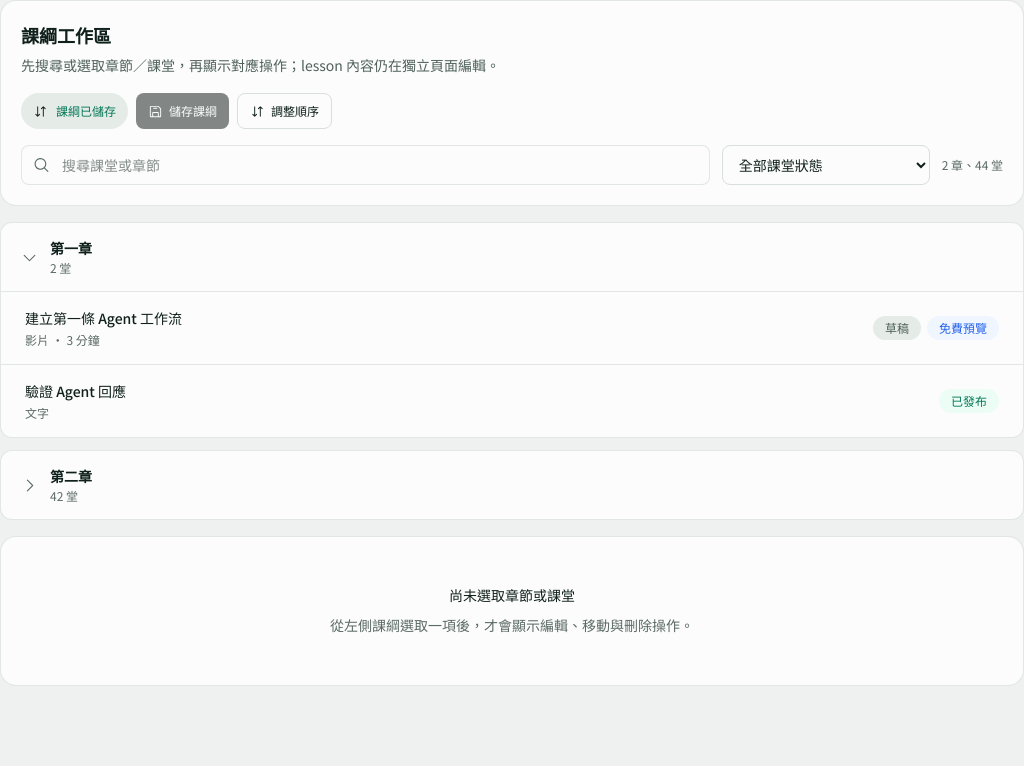
Test case: CourseOutlineEditor › preserves staged order after a save failure and allows retry
The width and height of the screenshot is (1024, 766).
Click the button "第一章 2 堂".
click(71, 248)  # box [13,235,1011,279]
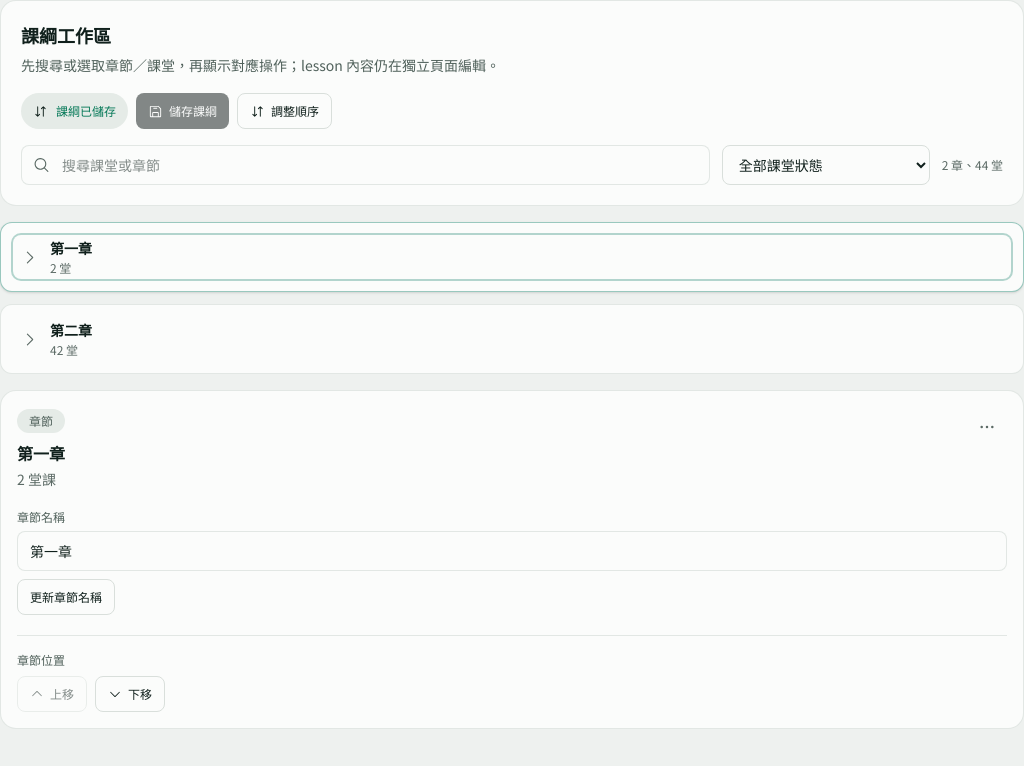
Click the button "下移".
click(130, 694)  # box [95,676,165,712]
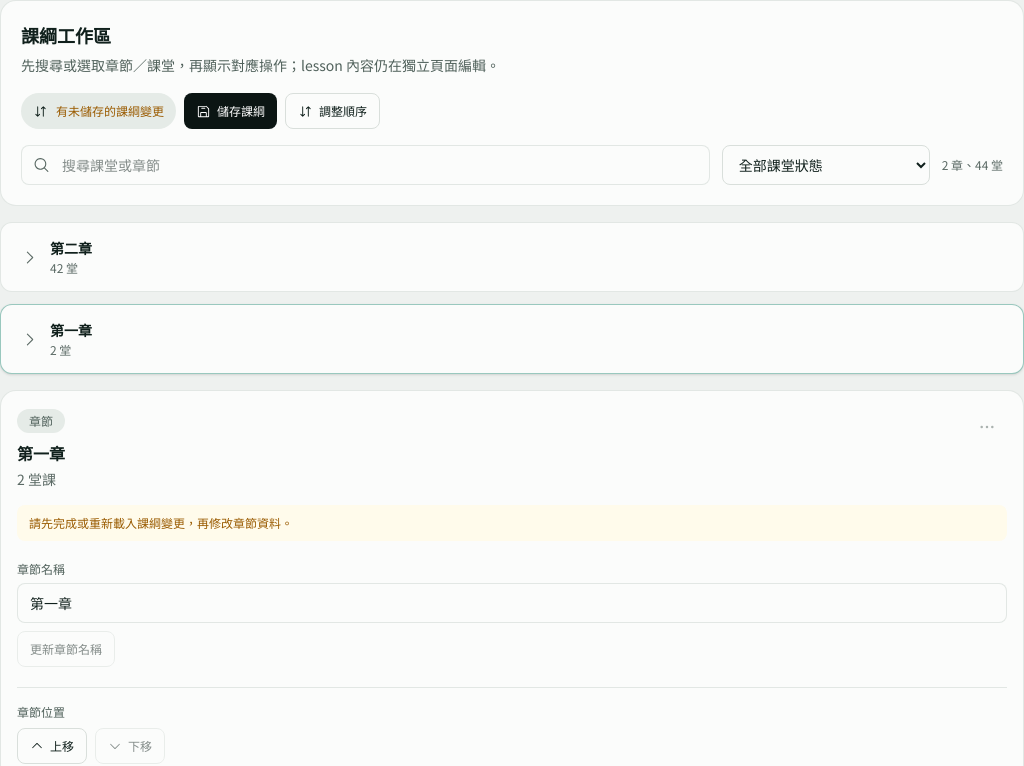
Click the button "儲存課綱".
click(230, 111)  # box [184,93,277,129]
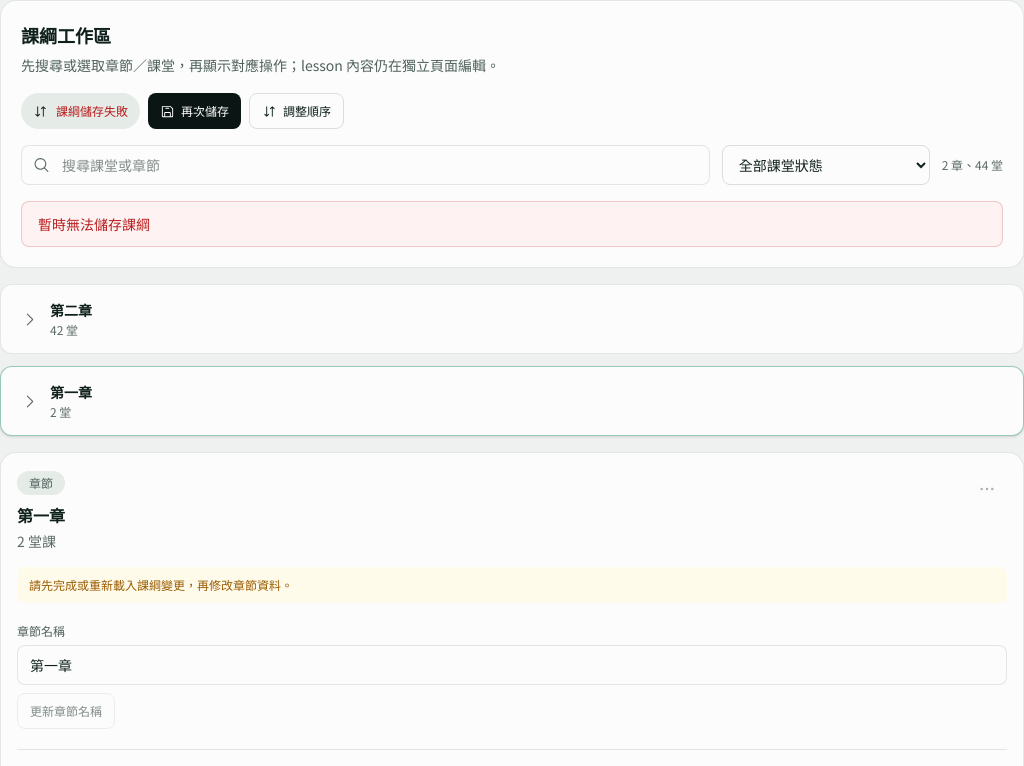
Expected: the text "課綱儲存失敗" is shown, [56,103,128,119]
Expected: the message reads "暫時無法儲存課綱", [38,214,150,234]
Click the button "再次儲存".
click(194, 111)  # box [148,93,241,129]
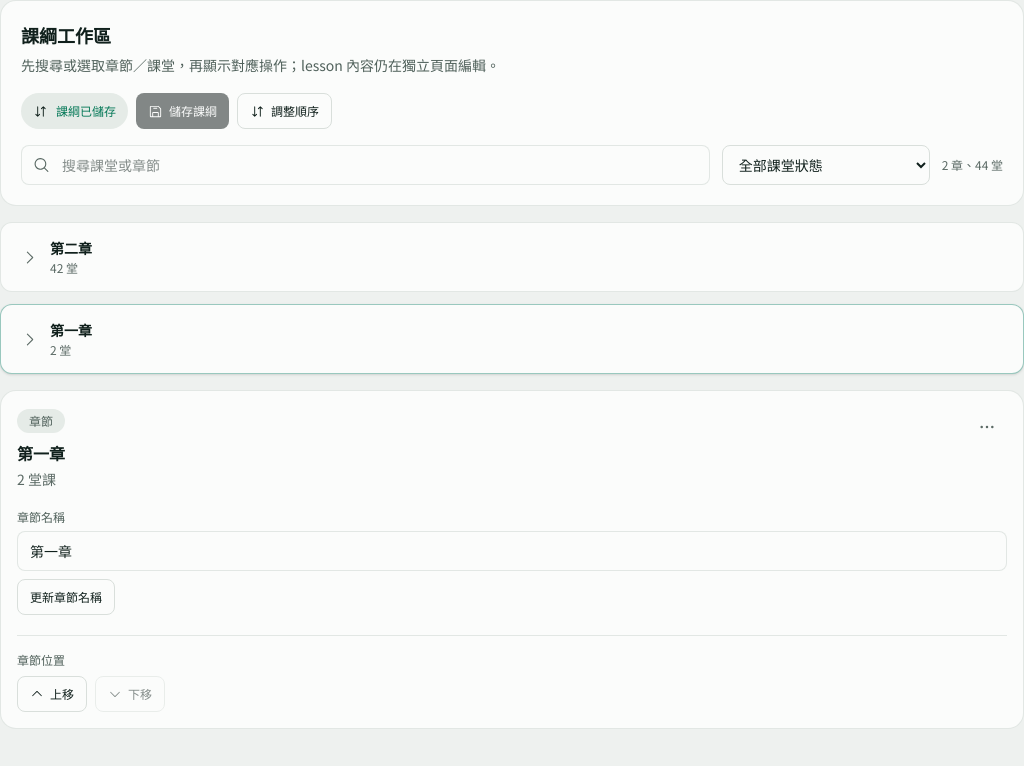
Expected: the text "課綱已儲存" is shown, [56,103,116,119]
